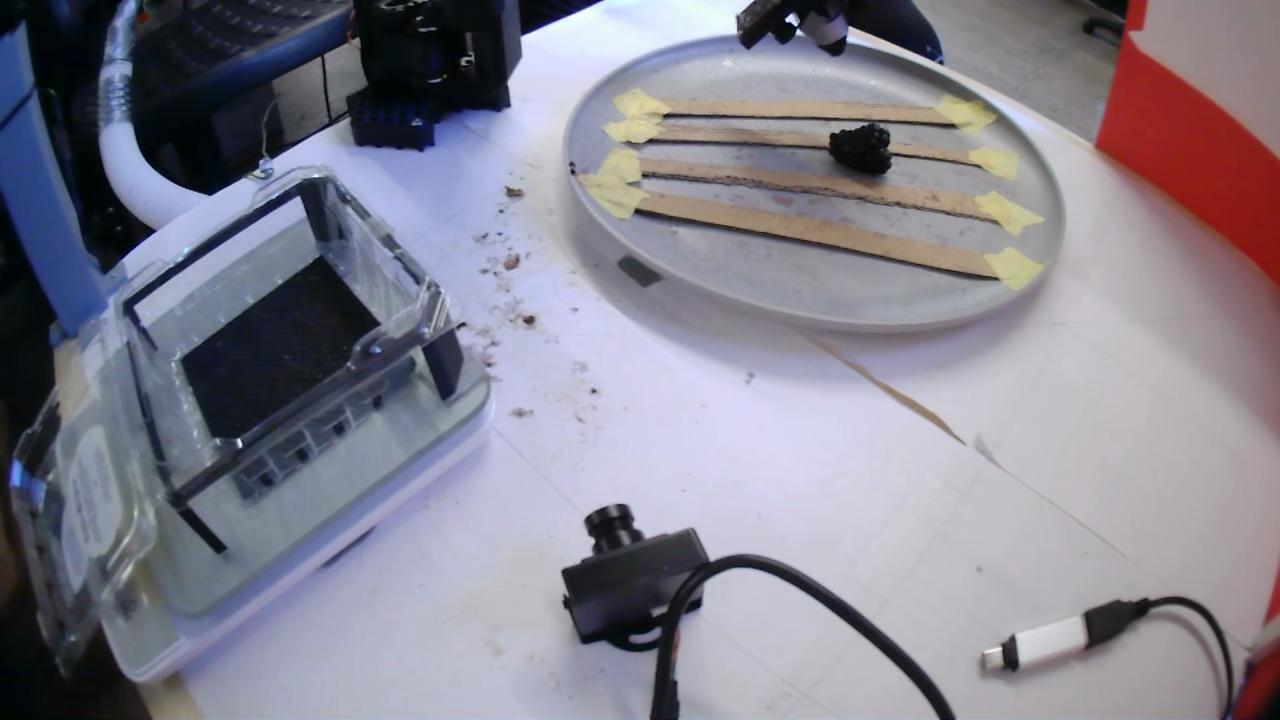berry: (828, 123, 891, 175)
